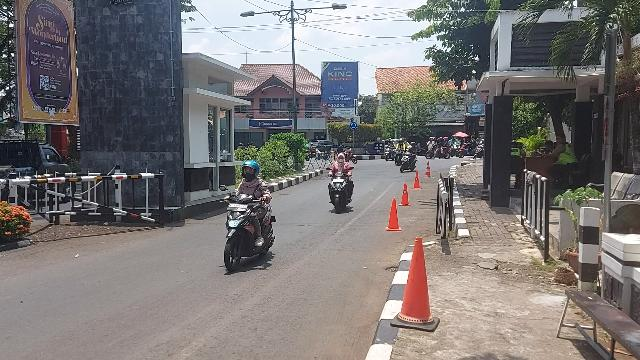helm: (243, 163, 260, 182)
motor: (222, 195, 277, 273), (329, 174, 356, 214), (401, 153, 417, 175)
non-helm: (339, 155, 346, 164)
